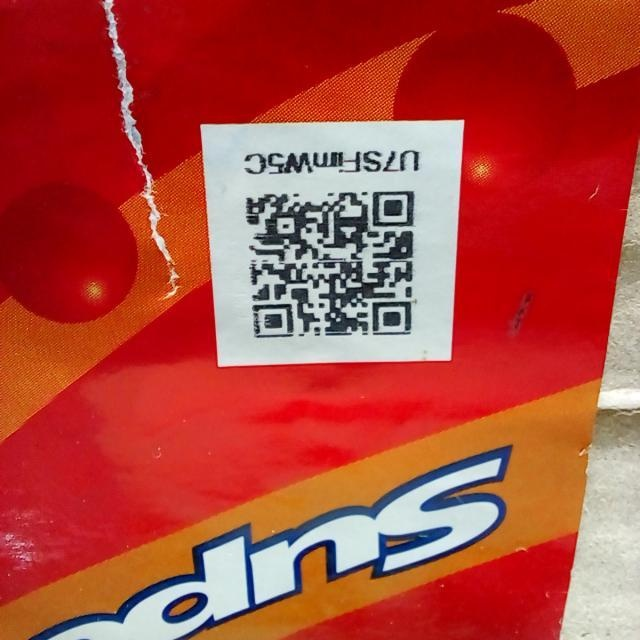qr-code: (236, 188, 421, 345)
